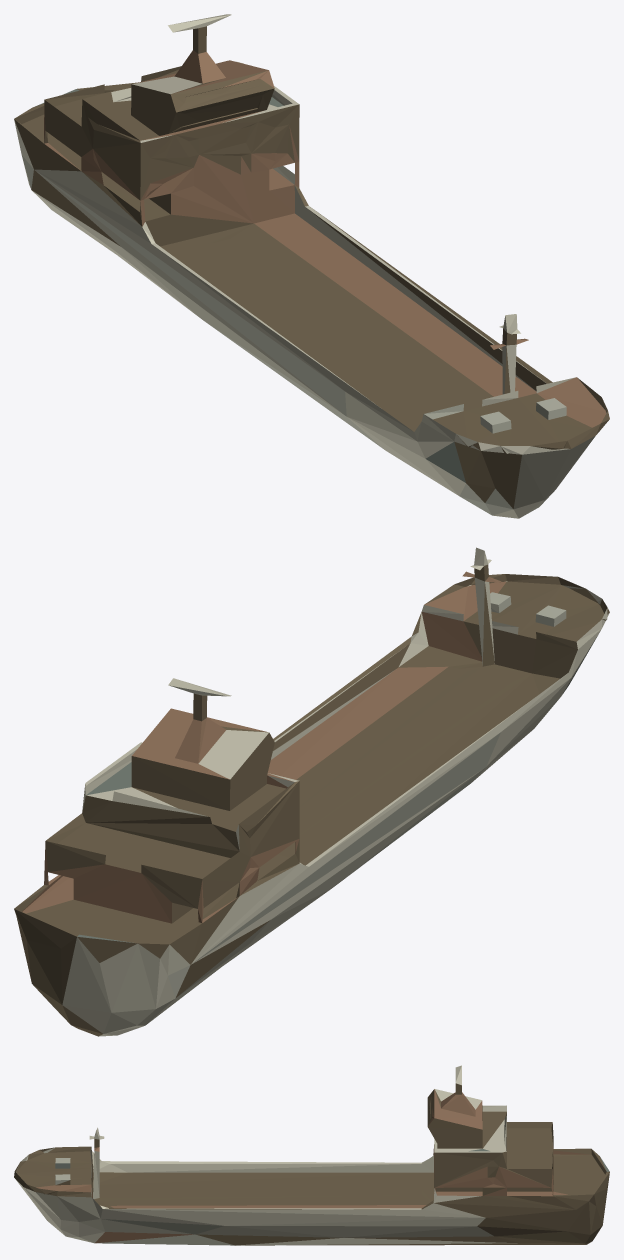
The model's file is staging_cargo_ship_coarse.obj.
3 renders of one model, top to bottom at view 1: azimuth 30°, elevation 25°; view 2: azimuth 150°, elevation 25°; view 3: azimuth 270°, elevation 25°, orthographic. The views are drawn at different scales.
Visible parts, largest first — view 1: staging_cargo_ship_coarse; view 2: staging_cargo_ship_coarse; view 3: staging_cargo_ship_coarse.
Part boxes in pixels (x1,y1,x2,y2): staging_cargo_ship_coarse: (14, 14, 609, 518); staging_cargo_ship_coarse: (14, 547, 609, 1036); staging_cargo_ship_coarse: (14, 1065, 609, 1245).
Bounding box in the file's own units: 5.83 × 9.65 × 30.99.
